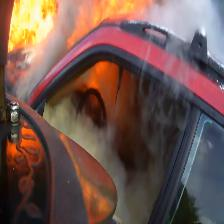fire: (1, 0, 191, 103)
nofire: (8, 108, 54, 224)
smoke: (46, 78, 189, 224)
